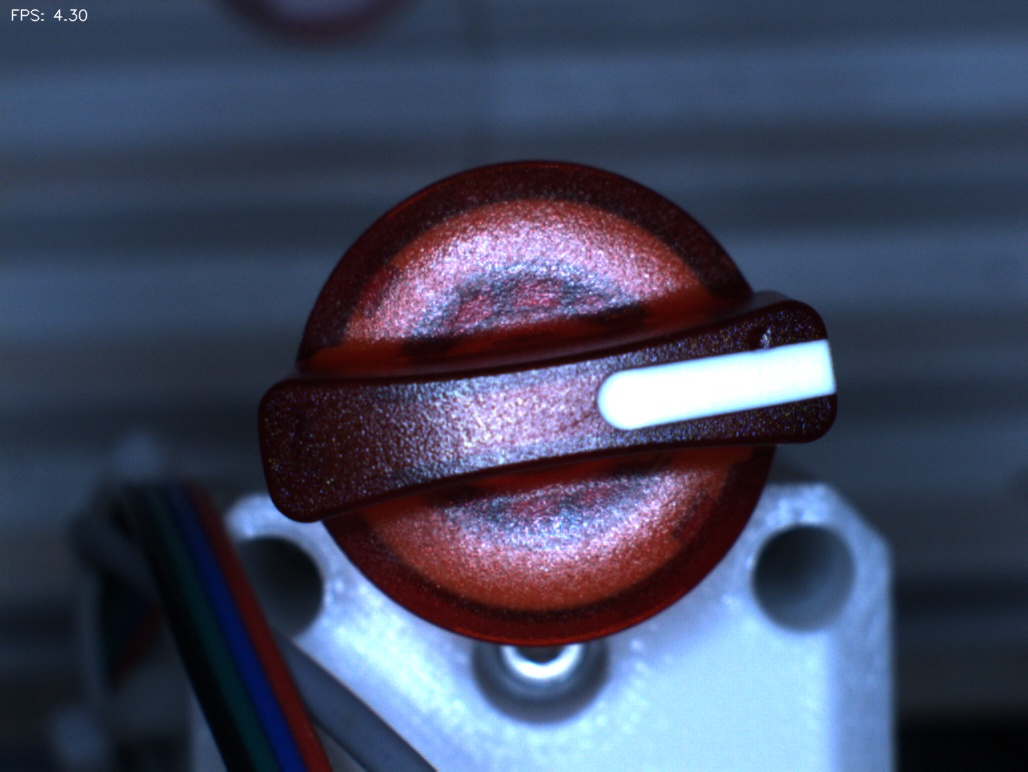Choc: (726, 300, 799, 373)
